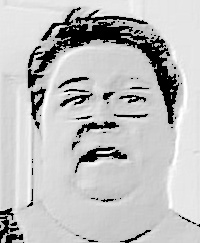nose_M_C: (85, 105, 120, 143)
